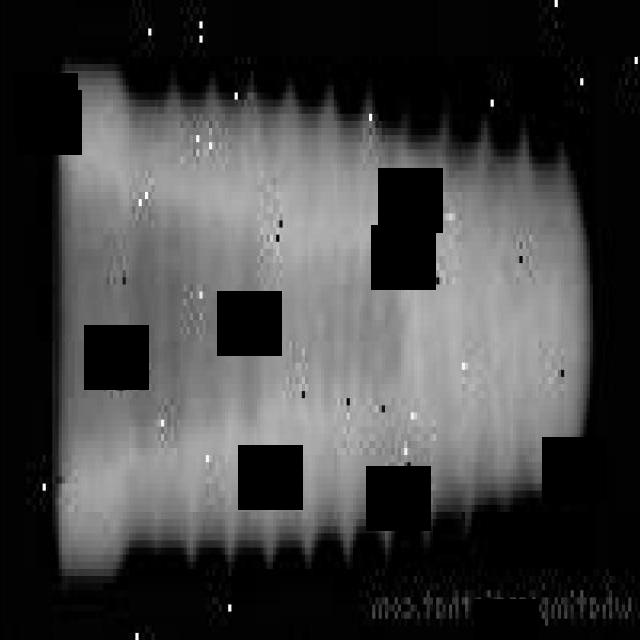Retained root: (53, 49, 600, 583)
